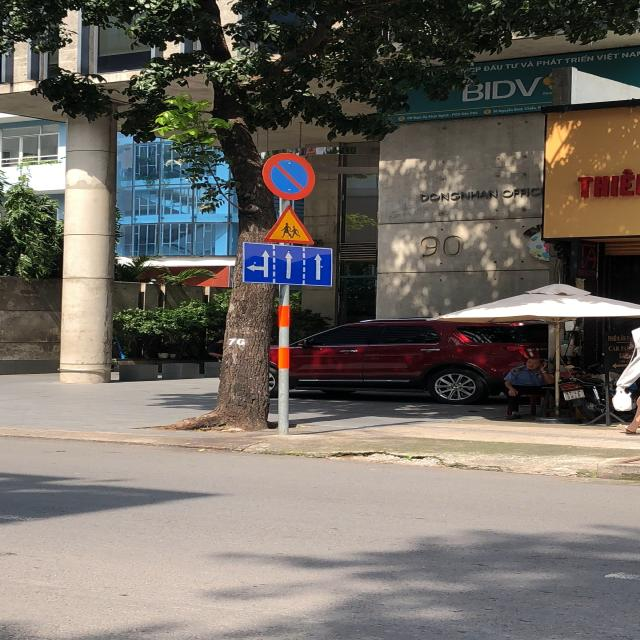Bien bao cam do xe: (264, 149, 321, 200)
Bien bao tre em: (263, 204, 314, 245)
